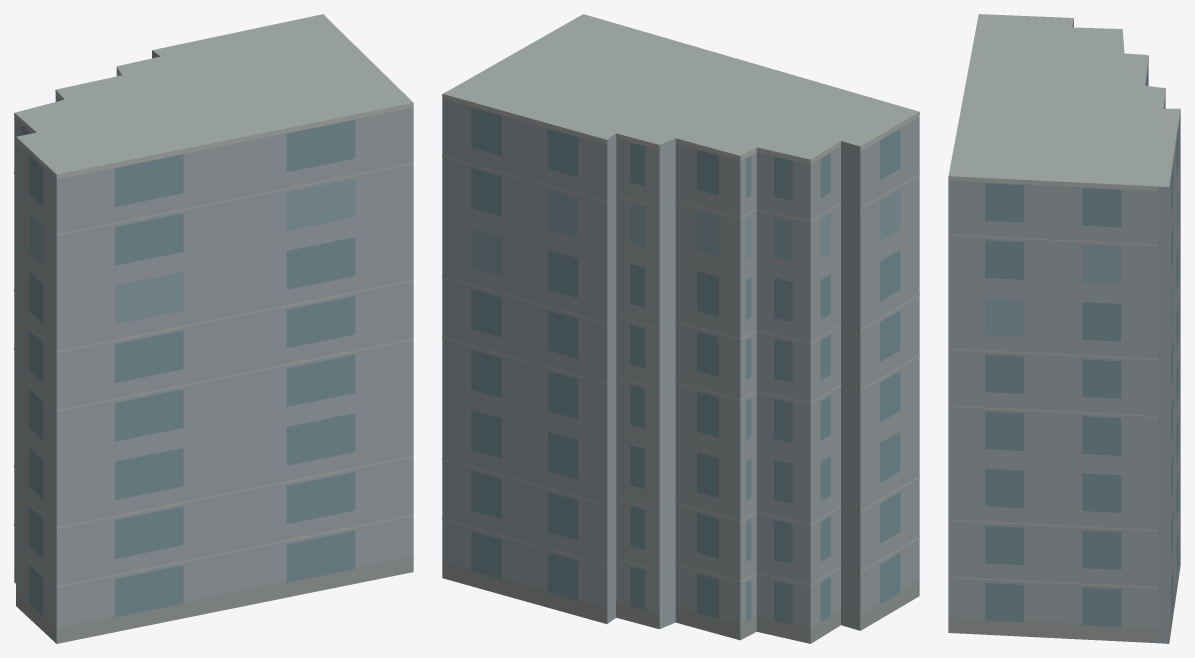
The model's file is survey-upis-32575542.glb.
The picture shows the model from 3 angles, left to right: view 1: azimuth 30°, elevation 25°; view 2: azimuth 150°, elevation 25°; view 3: azimuth 270°, elevation 25°; orthographic projection. The views are drawn at different scales.
Visible parts, largest first — view 1: survey-upis-32575542.tmp; view 2: survey-upis-32575542.tmp; view 3: survey-upis-32575542.tmp.
Boxes of the visible parts, x1=… form: survey-upis-32575542.tmp: x1=14, y1=14, x2=413, y2=643; survey-upis-32575542.tmp: x1=442, y1=14, x2=919, y2=643; survey-upis-32575542.tmp: x1=948, y1=14, x2=1180, y2=643.
Size of the model in its own units: 19.86 by 24.4 by 11.26.
